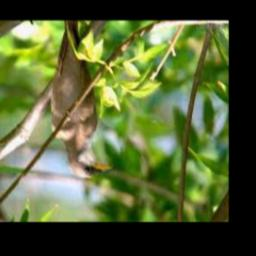Cuckoo: (51, 21, 116, 179)
